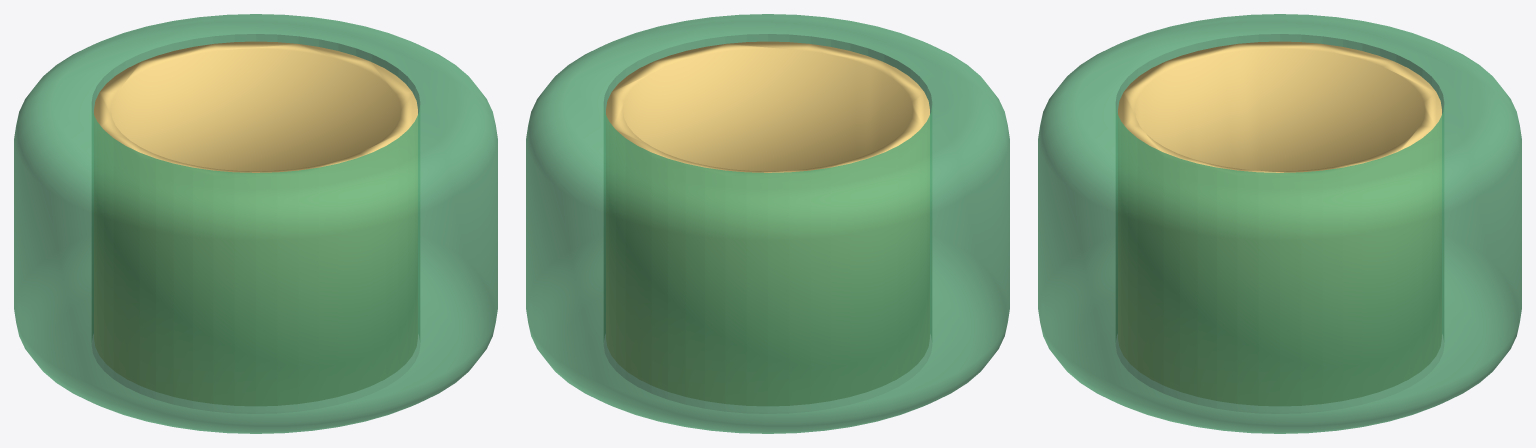
Rendered from banzhi.glb.
The picture shows the model from 3 angles, left to right: view 1: azimuth 30°, elevation 25°; view 2: azimuth 150°, elevation 25°; view 3: azimuth 270°, elevation 25°; orthographic projection.
Visible parts, largest first — view 1: banzhi; view 2: banzhi; view 3: banzhi.
Boxes of the visible parts, x1,y1,x2,y2 form: banzhi: (14, 14, 497, 433); banzhi: (526, 14, 1009, 433); banzhi: (1038, 14, 1521, 433).
Bounding box in the file's own units: 1 × 0.55 × 1.
